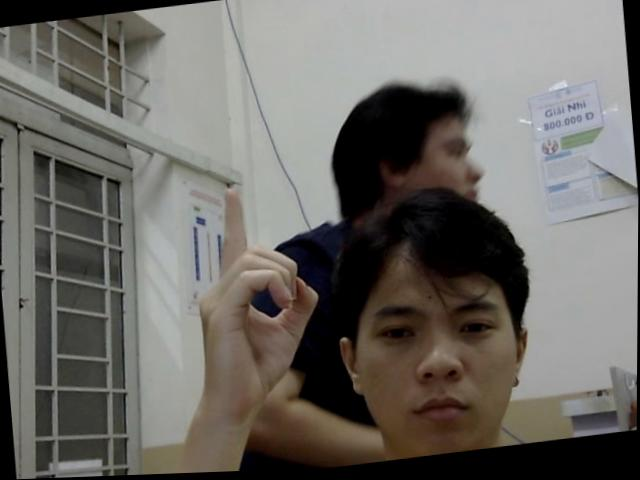D: (188, 178, 327, 414)
